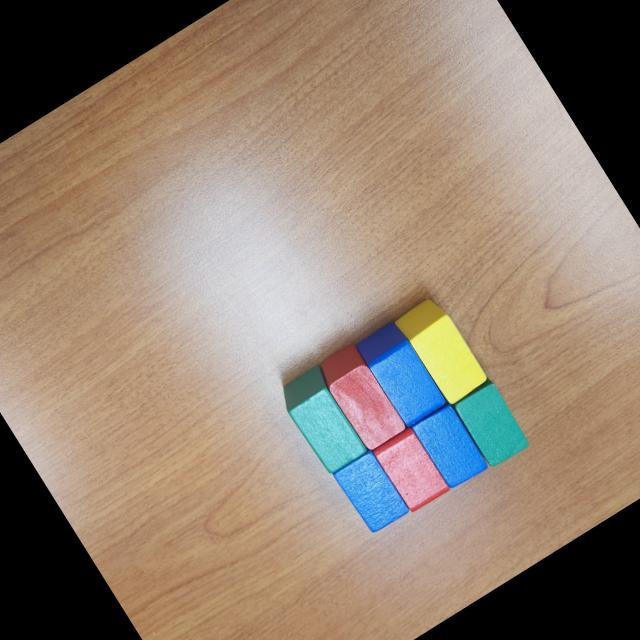blue: (352, 317, 450, 431), (408, 401, 493, 494), (331, 448, 412, 538)
green: (274, 360, 374, 478), (450, 378, 534, 472)
red: (313, 340, 408, 453), (371, 425, 450, 512)
yellow: (392, 293, 490, 407)
